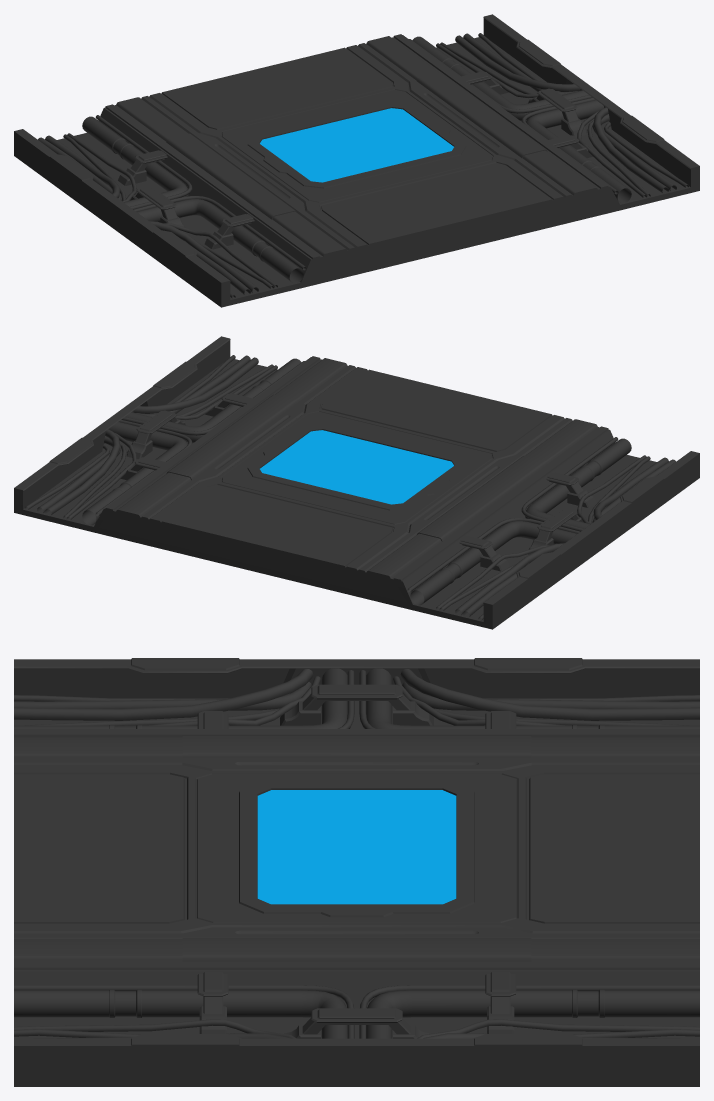
The model's file is SM_Floor_B.fbx.
3 renders of one model, top to bottom at view 1: azimuth 30°, elevation 25°; view 2: azimuth 150°, elevation 25°; view 3: azimuth 270°, elevation 25°, orthographic. The views are drawn at different scales.
Parts seen in each view (by area): view 1: SM_Floor_B_LOD0; view 2: SM_Floor_B_LOD0; view 3: SM_Floor_B_LOD0.
Part boxes in pixels (left/top/right/bottom): SM_Floor_B_LOD0: left=14, top=14, right=699, bottom=307; SM_Floor_B_LOD0: left=14, top=336, right=699, bottom=629; SM_Floor_B_LOD0: left=14, top=658, right=699, bottom=1086.
Size of the model in its own units: 400 by 300 by 23.56.
